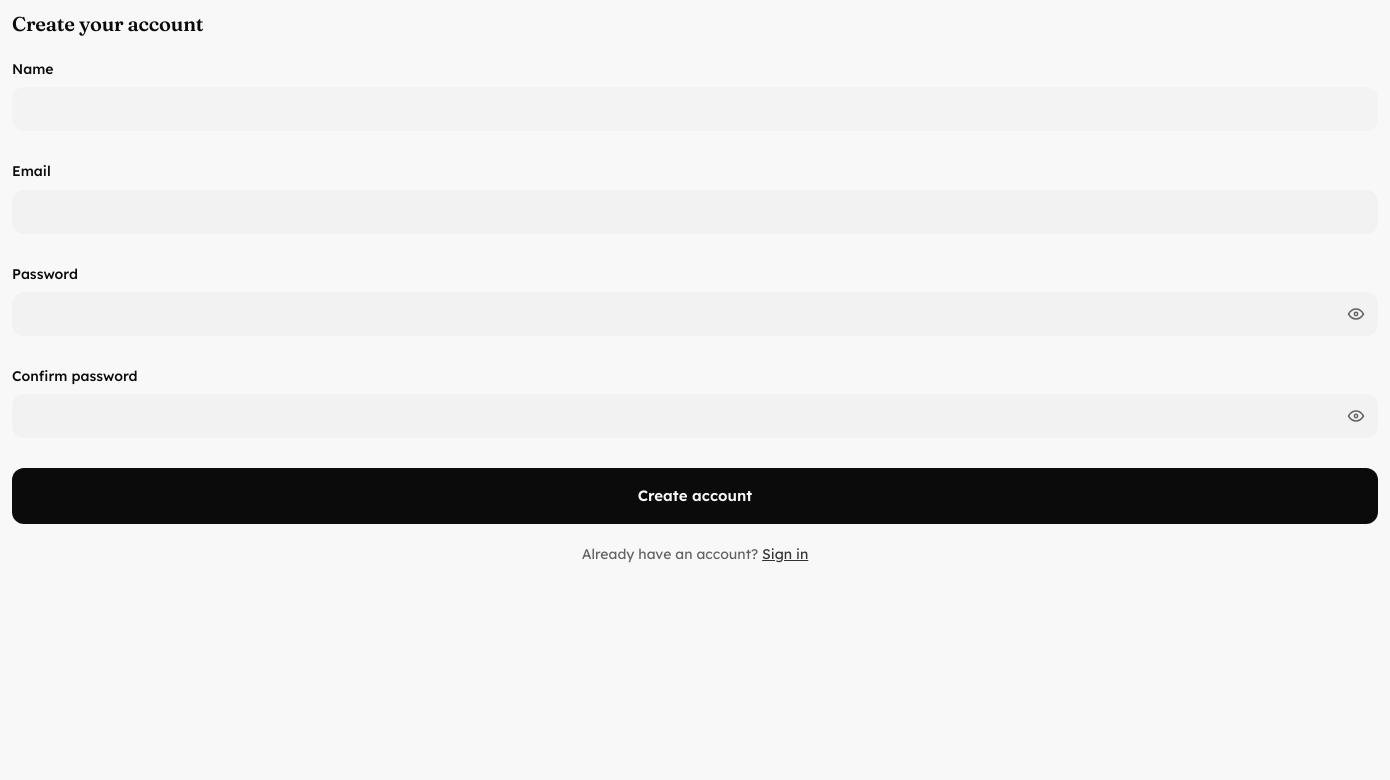
Test: SignupForm › shows the password hint only while the entered password is too short
expect the text "Use at least 8 characters." is not shown: met
Type "short" into the password field labelled "Password".
click(695, 314); type("short")  # box [12,292,1378,336]
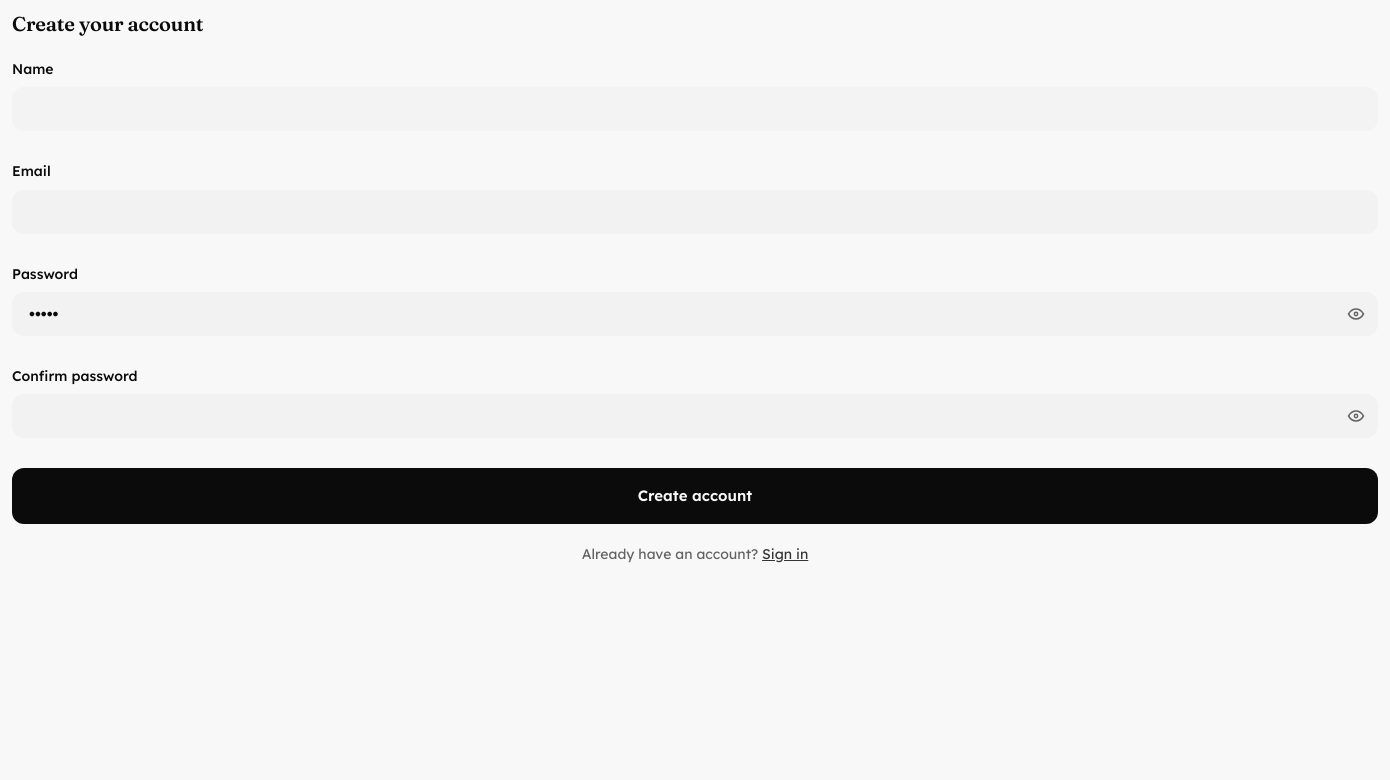
expect the text "Use at least 8 characters." is not shown: met
Leave the password field labelled "Password", box [12,292,1378,336]
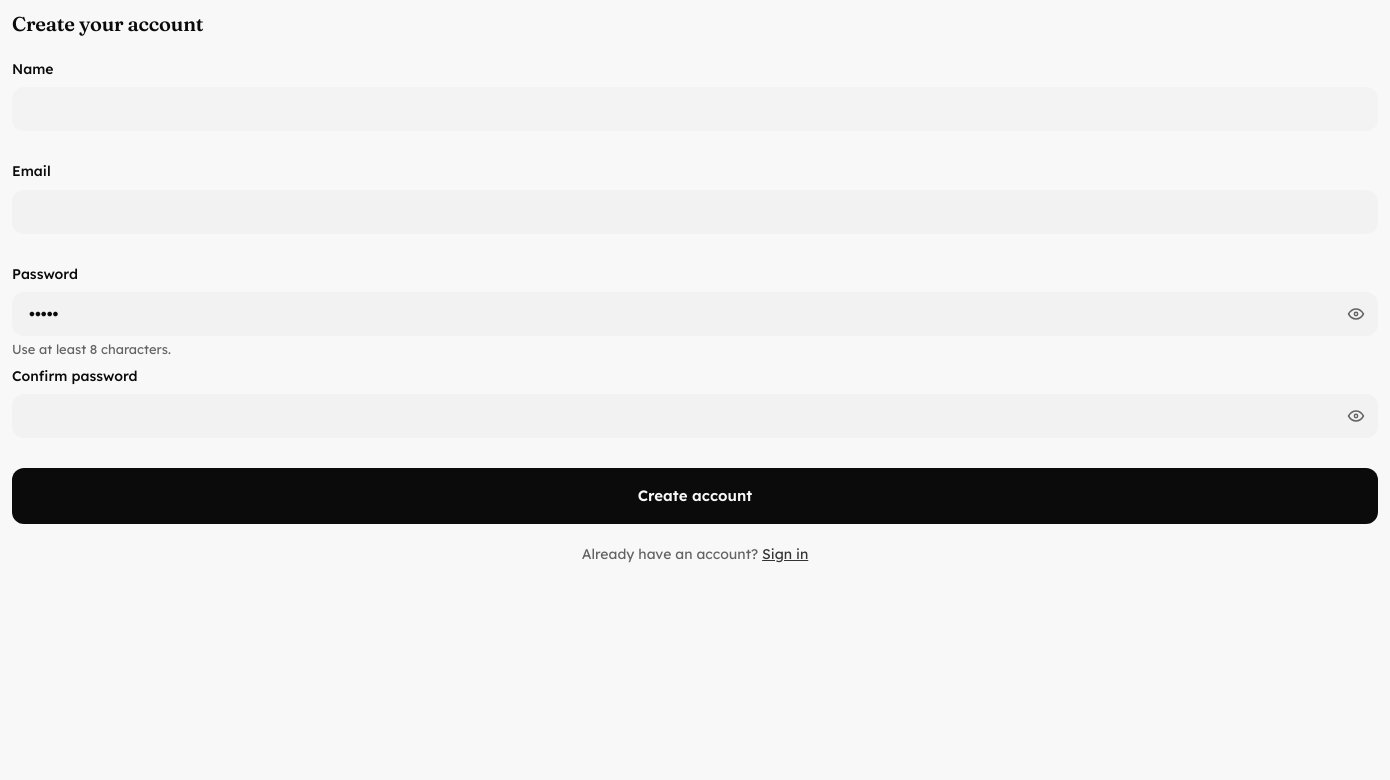
expect the text "Use at least 8 characters." is shown: met, box [12,341,171,357]
Type "long-enough" into the password field labelled "Password".
click(695, 314); type("long-enough")  # box [12,292,1378,336]
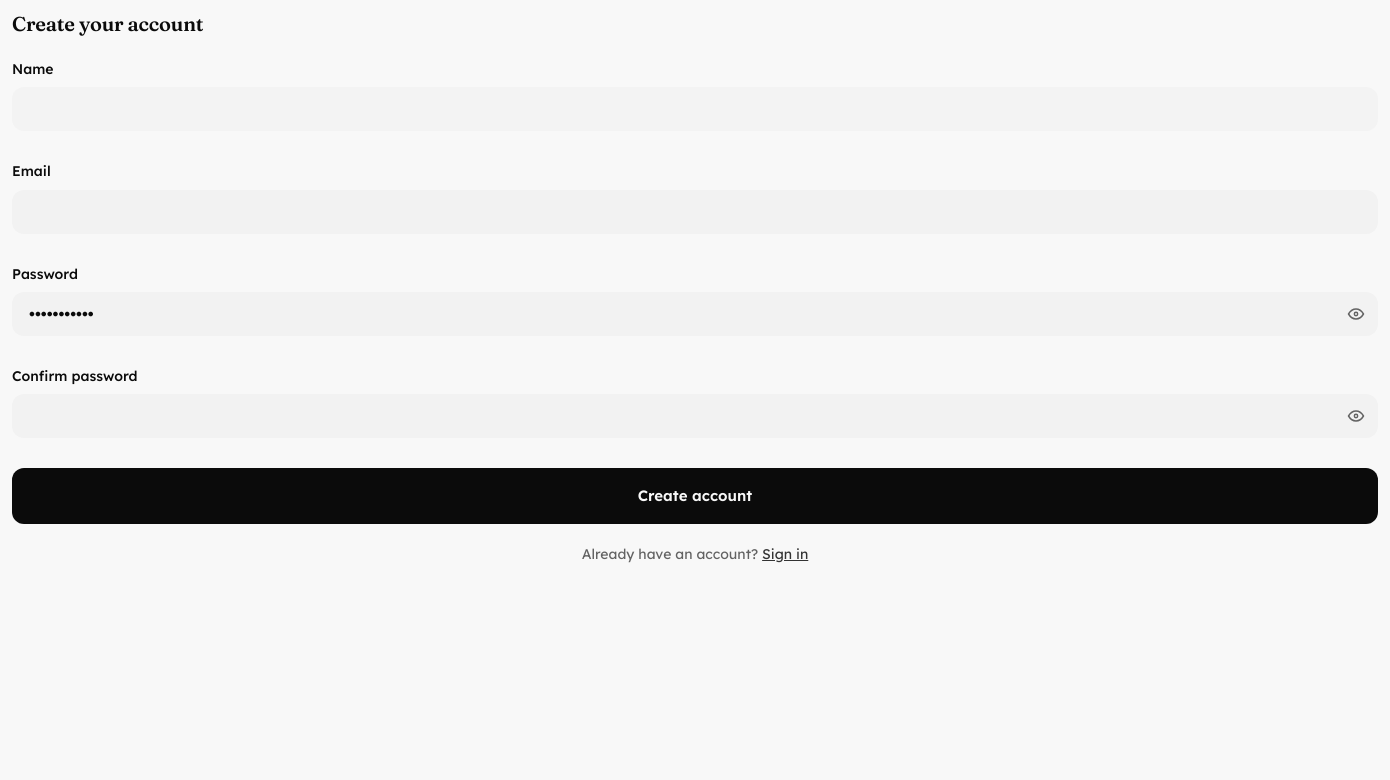
expect the text "Use at least 8 characters." is gone: met
